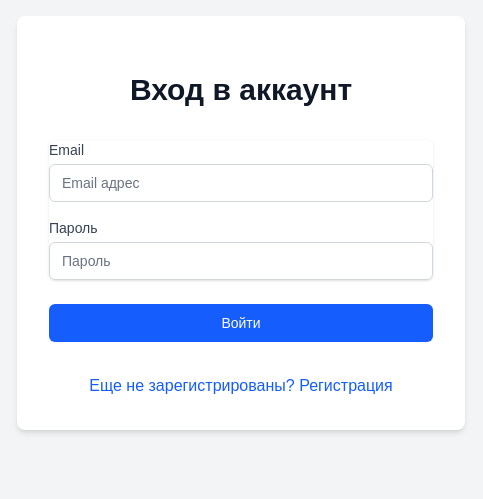
it: SignInContent › отображает ошибку при неудачном входе
The image size is (483, 499).
Type "test@example.com" into the field labelled "Email".
click(241, 183); type("test@example.com")  # box [49,164,433,202]
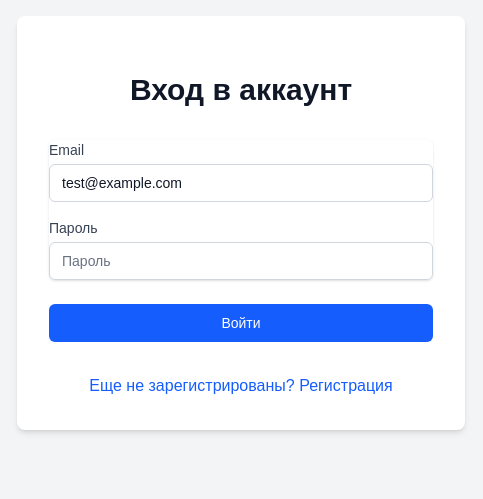
Type "password123" into the password field labelled "Пароль".
click(241, 261); type("password123")  # box [49,242,433,280]
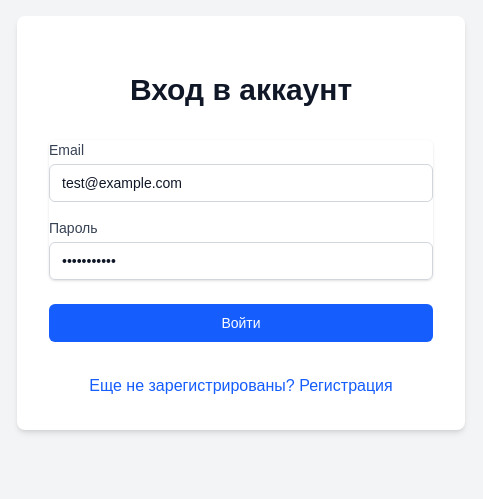
Click the button "Войти".
click(241, 323)  # box [49,304,433,342]
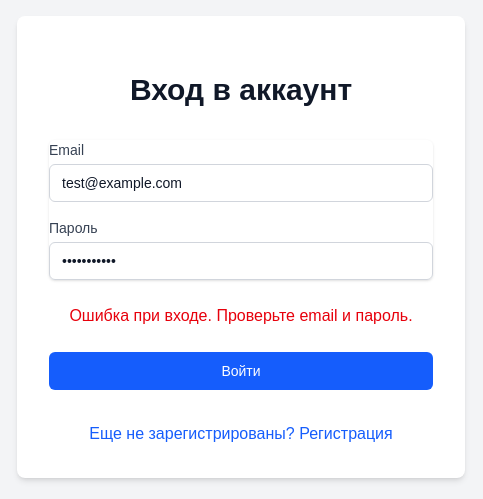
Expected: the text "Ошибка при входе. Проверьте email и пароль." is shown, [49,304,433,328]
